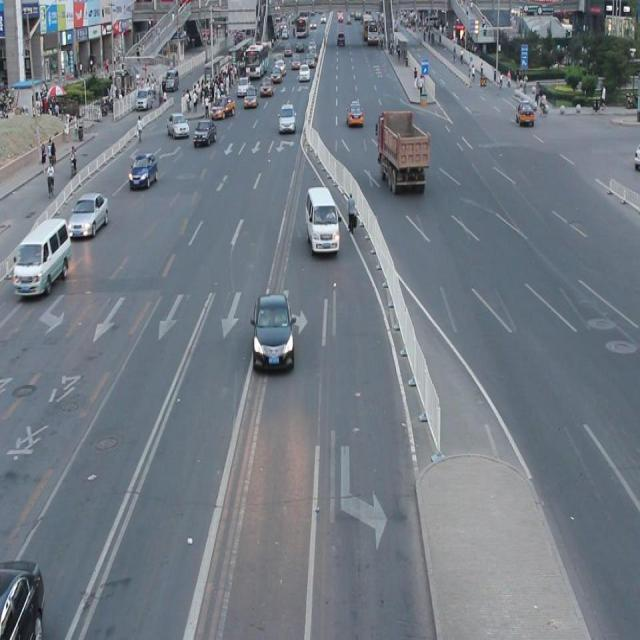bus: (376, 110, 429, 194)
car: (0, 556, 44, 640), (252, 292, 293, 372), (68, 190, 109, 238), (128, 152, 158, 189)
truck: (14, 217, 71, 296), (304, 185, 339, 254)
